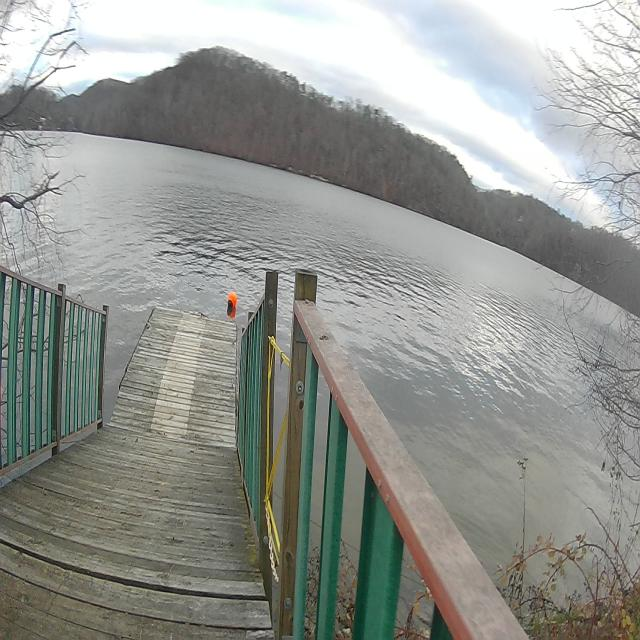Buoy: (225, 288, 239, 314)
